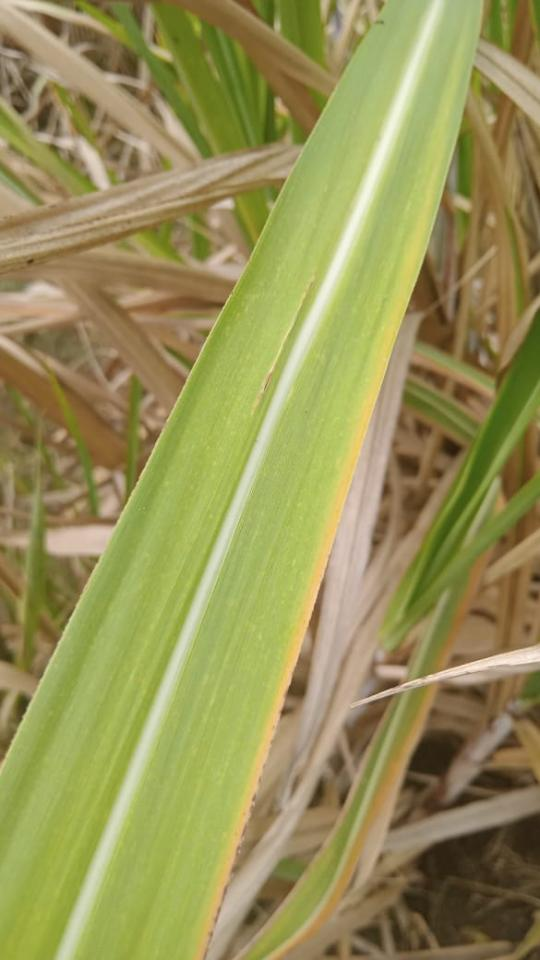Yellow: (193, 311, 398, 959)
